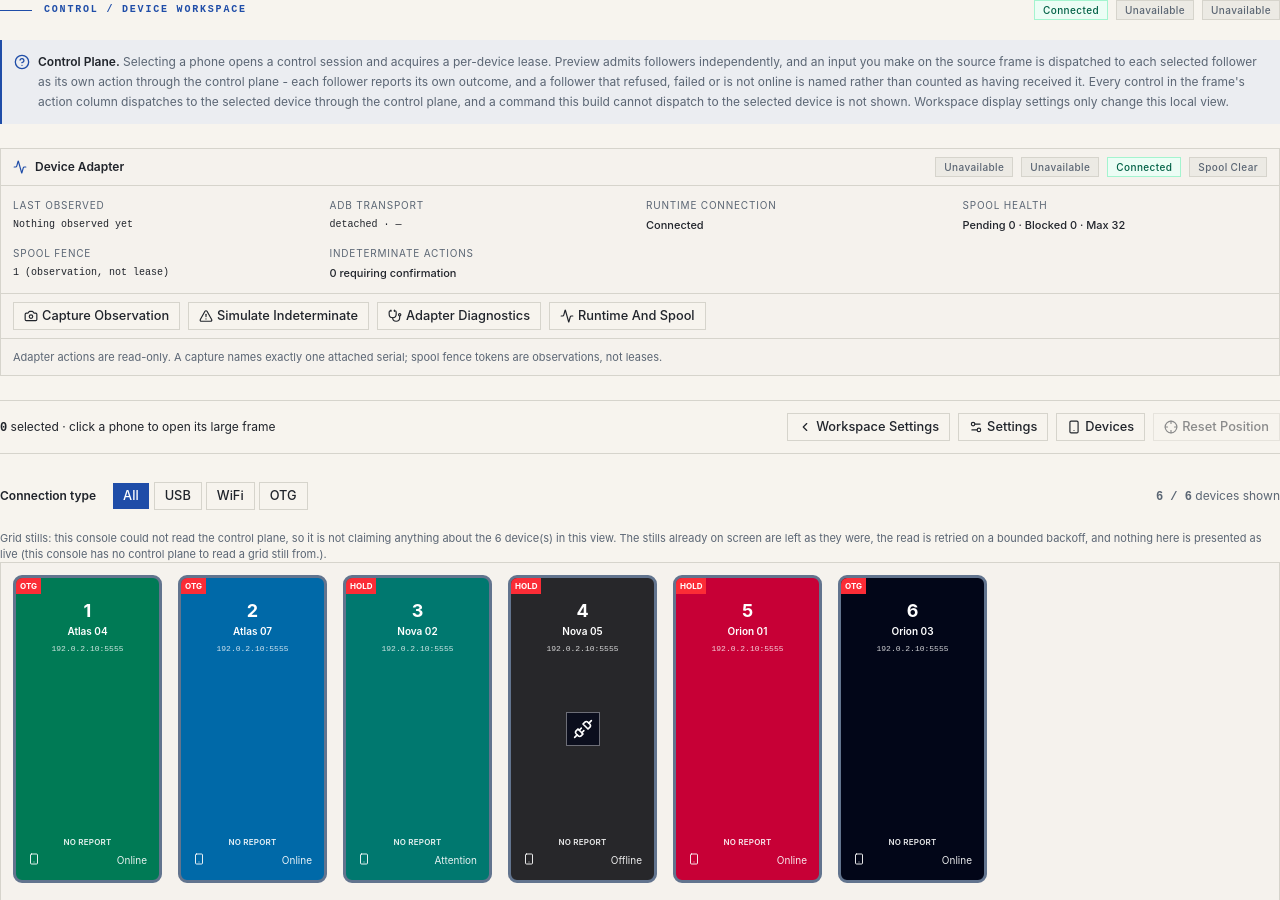
Test: ControlPage OTG Setup tab › runs the whole flow — Set Port, Activate, Scan — with no Connect control in it
What coordinates should you click on to do the following:
click the button with aria-label "Open Workspace Settings"
I would click on:
 (869, 427)
Its box is [787, 413, 950, 441].
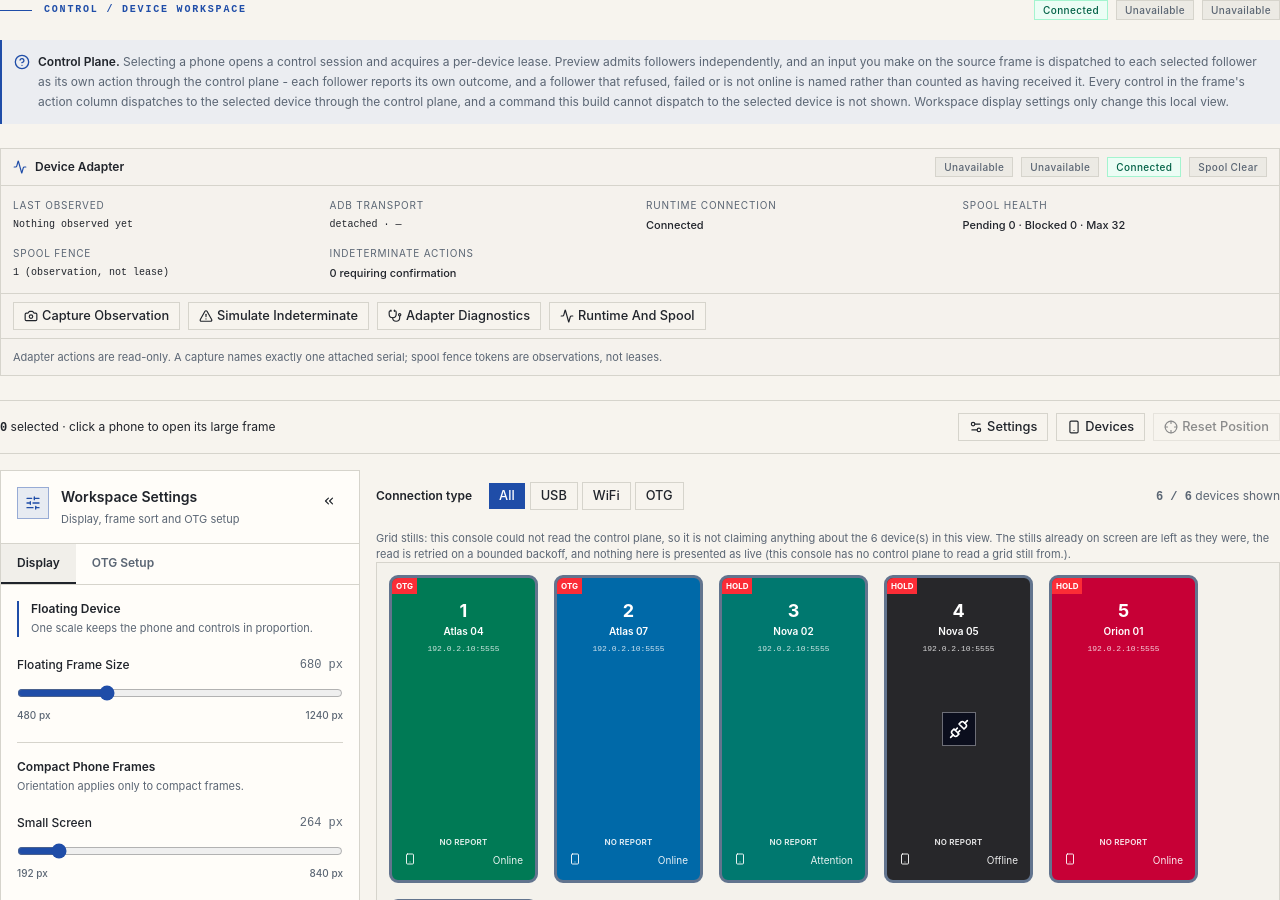
What coordinates should you click on to do the following:
click the tab "OTG Setup"
I would click on:
 (123, 564)
Its box is [76, 544, 170, 584].
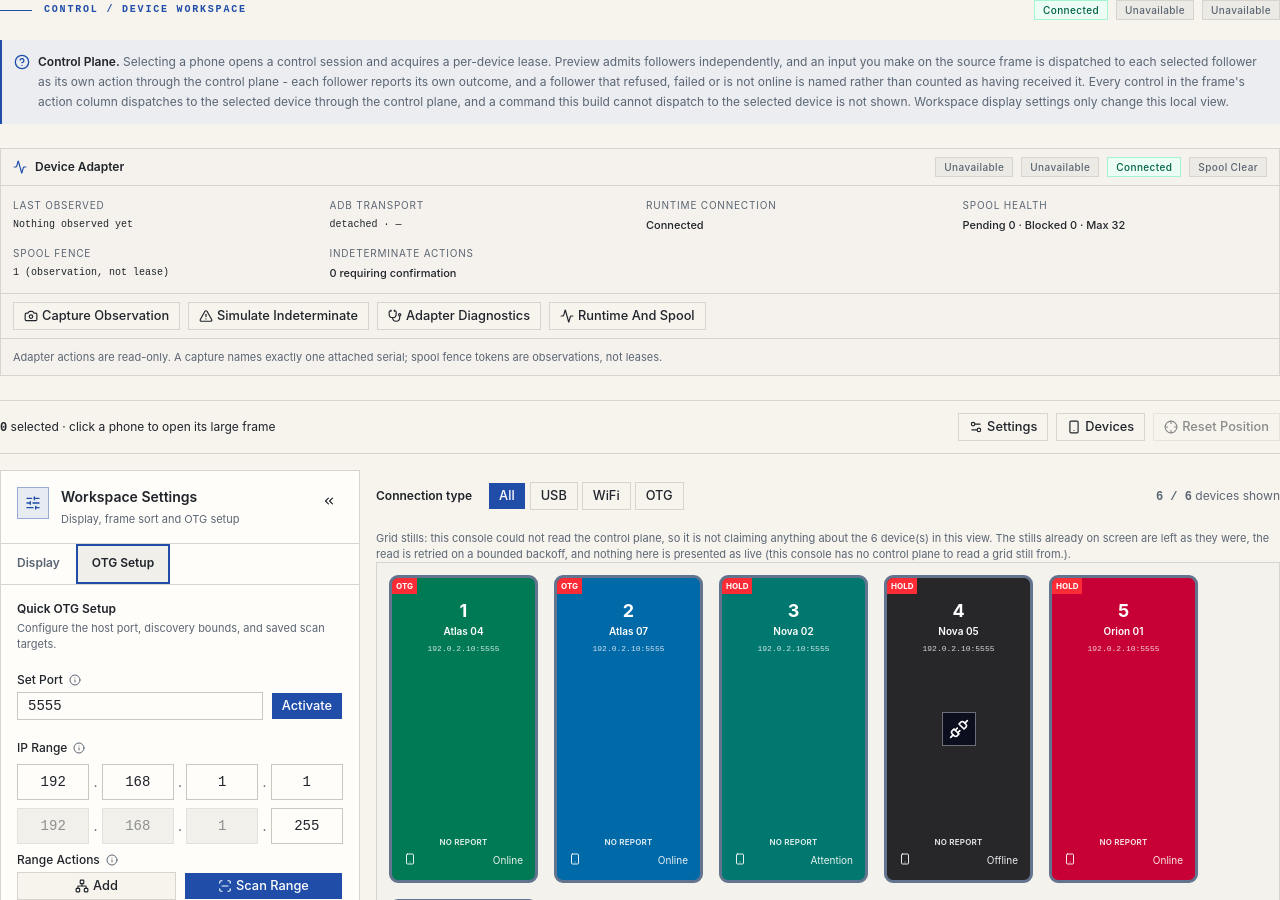
Expected: the field labelled "Set Port" holds "5555", [17, 692, 263, 720]
What coordinates should you click on to do the following:
click the button "Activate"
I would click on:
 (307, 706)
Its box is [271, 692, 343, 720].
(page scrolled)
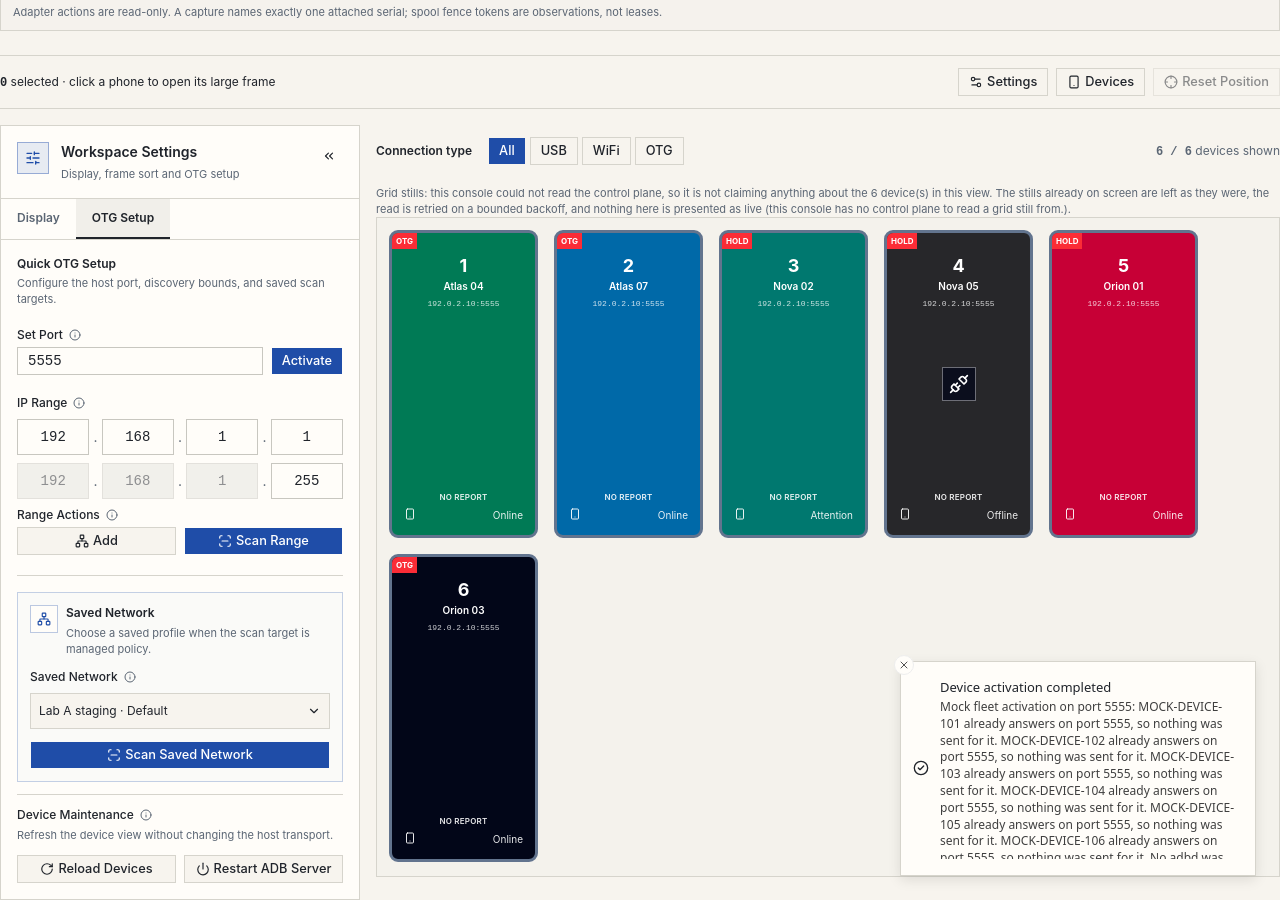
Expected: the text "Mock fleet activation" shows "MOCK-DEVICE-101", [940, 698, 1234, 883]
Expected: the text "Mock fleet activation" shows "MOCK-DEVICE-103", [940, 698, 1234, 883]
Expected: the text "Mock fleet activation" shows "MOCK-DEVICE-104", [940, 698, 1234, 883]
What coordinates should you click on to do the following:
click the button "Scan Saved Network"
I would click on:
 (180, 755)
Its box is [30, 741, 330, 769].
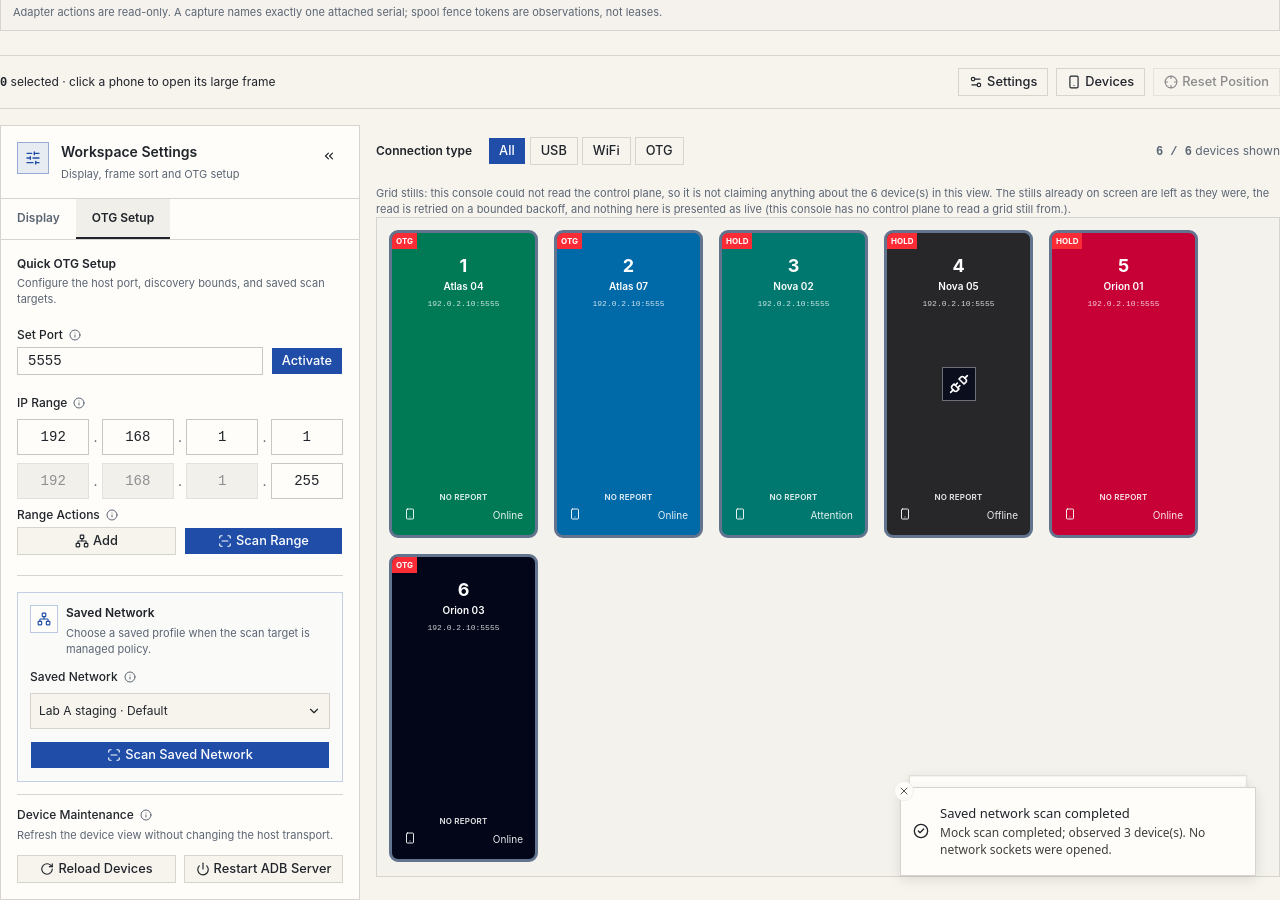
Expected: the text "Mock scan completed; observed 3 device(s)" is shown, [940, 824, 1205, 858]
